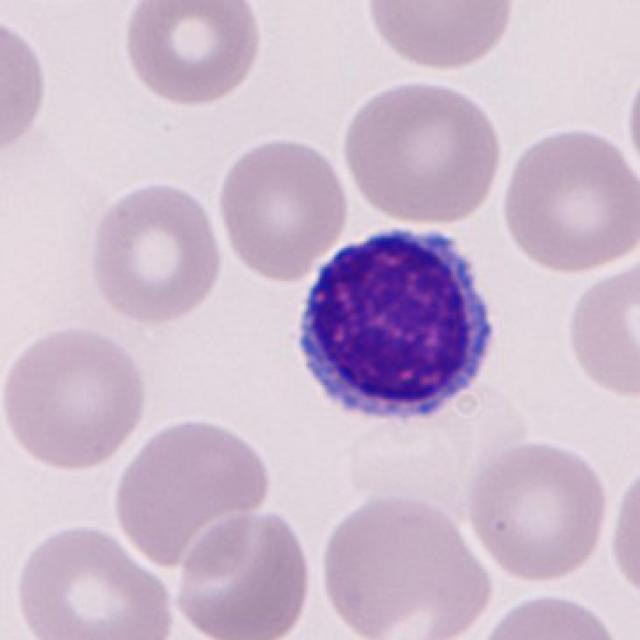Lymphocyte: (282, 214, 507, 436)
RBC: (315, 487, 498, 640), (108, 413, 276, 569), (338, 75, 507, 227), (0, 319, 152, 475), (463, 437, 612, 586), (497, 121, 638, 276), (84, 177, 226, 328), (215, 133, 353, 284), (10, 518, 178, 640), (168, 504, 315, 640), (118, 0, 267, 109), (362, 0, 519, 75), (562, 258, 638, 401), (468, 588, 630, 640), (0, 10, 51, 163), (607, 458, 640, 605), (622, 50, 640, 190)
